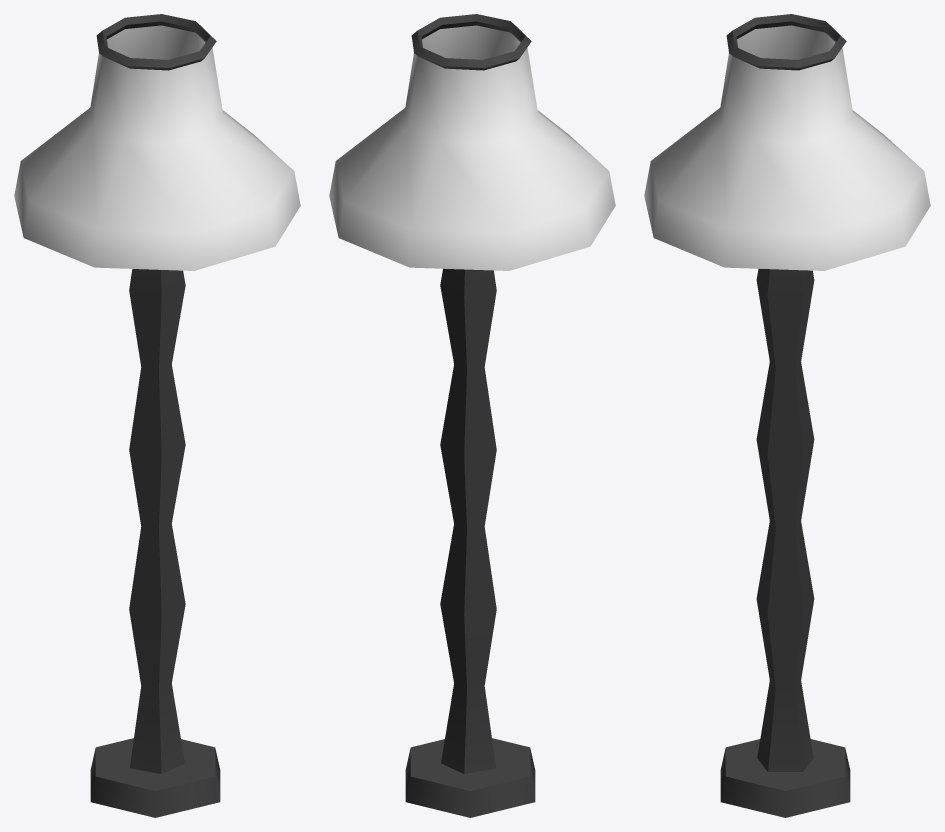
File: lamp_023.glb
3 views of the same model, side by side, from view 1: azimuth 30°, elevation 25°; view 2: azimuth 150°, elevation 25°; view 3: azimuth 270°, elevation 25° (orthographic).
Parts seen in each view (by area): view 1: lamp_023; view 2: lamp_023; view 3: lamp_023.
Part boxes in pixels (box(x1,y1,x2,y2)): lamp_023: box(14, 14, 300, 817); lamp_023: box(329, 14, 615, 817); lamp_023: box(644, 14, 930, 817).
Size of the model in its own units: 0.6242 by 1.8 by 0.625.
1 material, 1 textured.
